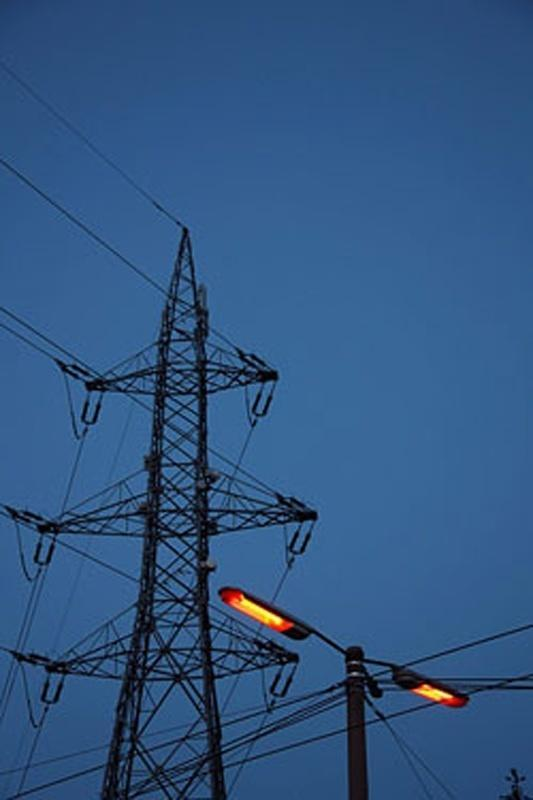power_tower: (6, 226, 318, 800)
